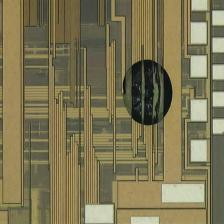BLOCK ETCH: (121, 59, 177, 128)
